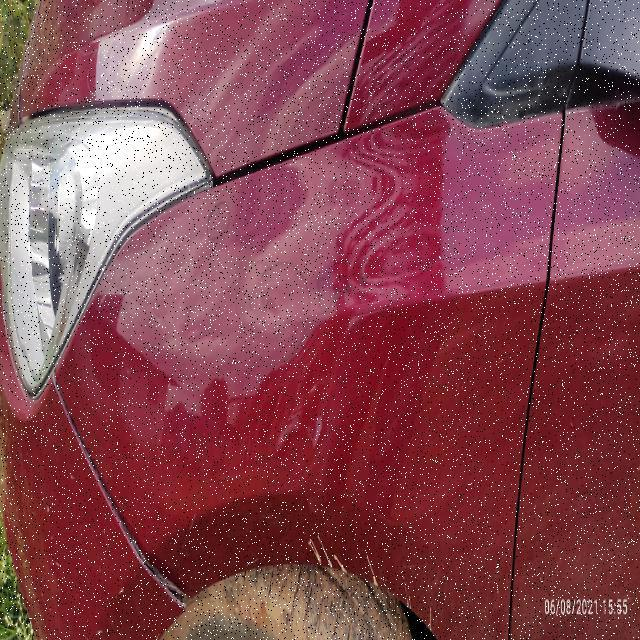bumper: (121, 165, 543, 639)
